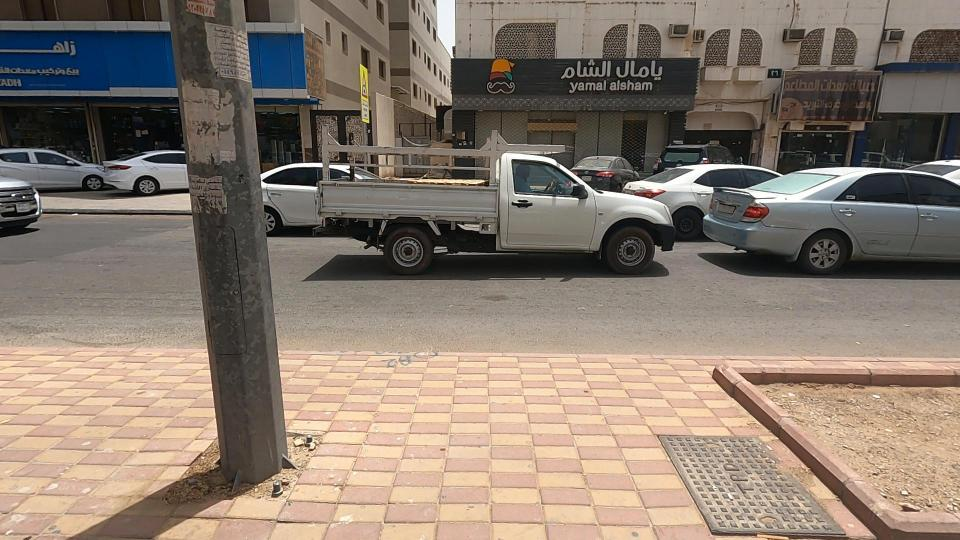BAD_BILLBOARD: (710, 28, 949, 169)
